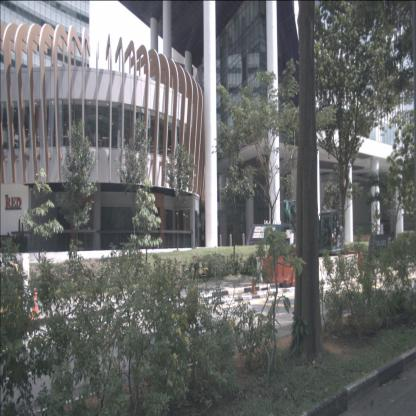human-pedestrian-adult: (201, 233, 205, 247)
movable_object-barrier: (262, 257, 295, 287), (318, 255, 341, 281), (348, 250, 364, 280), (341, 254, 359, 280)
movable_object-trafficcone: (29, 284, 43, 320), (250, 271, 258, 296)
